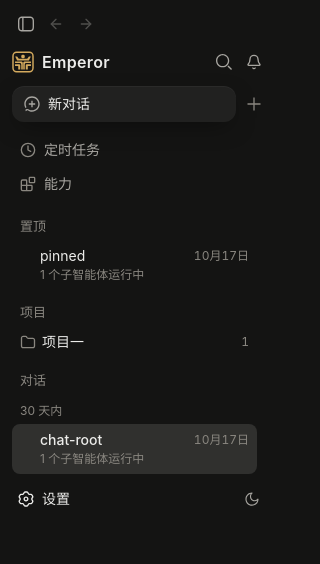
Test case: searches titles at once and contents after a pause (UI-S11 8)
Click the button named "搜索".
click(224, 62)  # box left=210, top=48, right=238, bottom=76
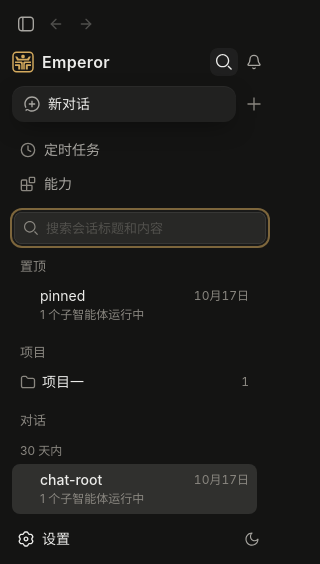
Type "pinned" into the search field with placeholder "搜索会话标题和内容".
click(153, 228); type("pinned")  # box left=46, top=212, right=260, bottom=244
Wait 250 ms
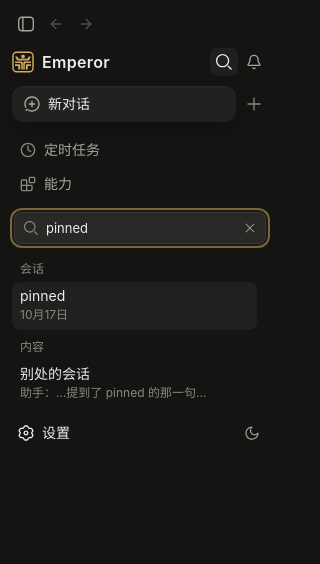
Expected: the option "别处的会话 助手：…提到了 pinned 的那一句…" is shown, left=12, top=360, right=257, bottom=408
